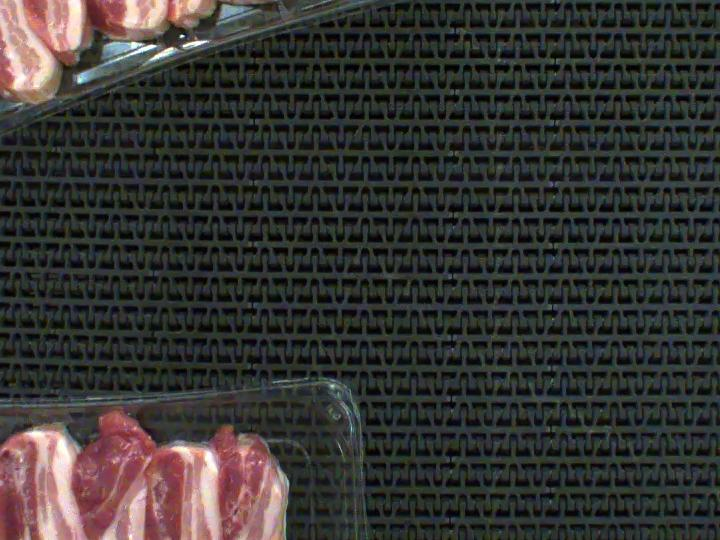packaging-error: (0, 385, 278, 495)
